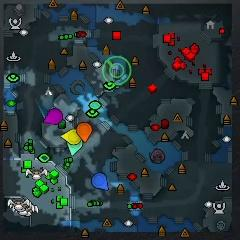Other: (102, 55, 132, 86)
p1: (92, 173, 108, 191)
p2: (67, 136, 82, 156)
p3: (44, 109, 63, 124)
p4: (62, 129, 82, 145)
p5: (76, 123, 93, 142)
